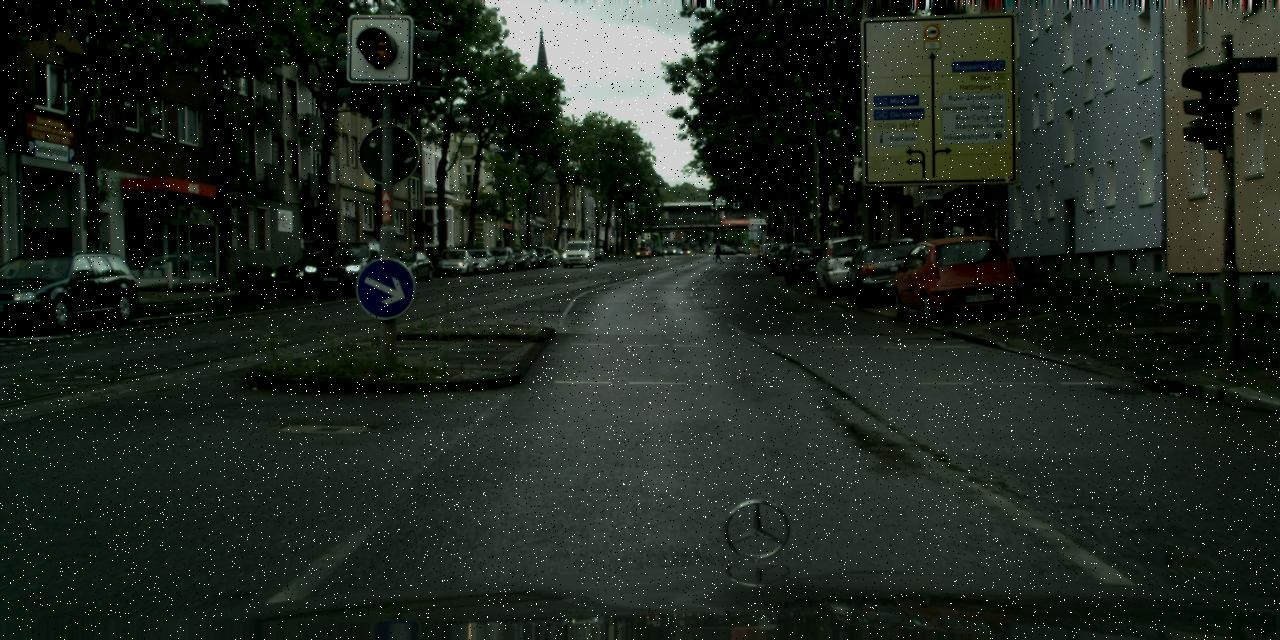ped: (963, 224, 983, 276), (949, 232, 966, 276), (714, 240, 722, 262), (608, 242, 613, 255)
